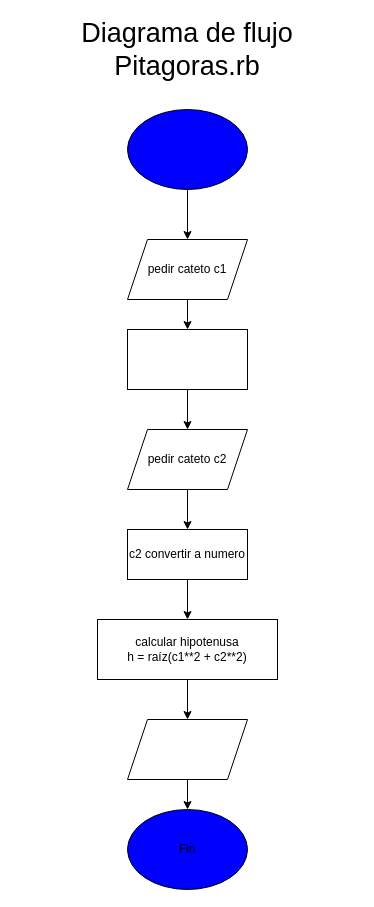
Image size: 374x907. Some labels were removed from this diagram. Here are the shapes that lost their labels. From the top down, the box of each, then its label:
(126, 108, 248, 190): Inicio
(126, 328, 248, 390): c1 convertir a numero
(126, 718, 248, 780): puts h
